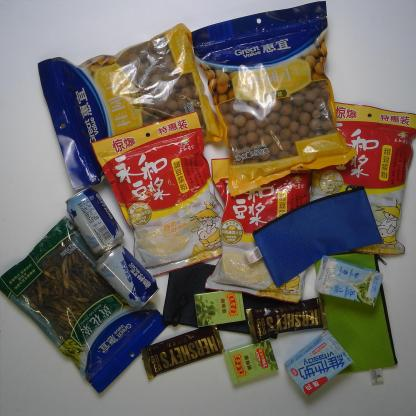Alcohol: (91, 240, 159, 310), (63, 184, 125, 255)
Candy: (221, 334, 285, 386), (192, 283, 248, 329)
Chocolate: (144, 321, 225, 382), (245, 292, 329, 342)
Dried Food: (191, 1, 358, 198), (35, 22, 224, 194), (1, 215, 173, 399)
Instant Drink: (91, 111, 242, 279), (202, 154, 316, 304), (313, 102, 416, 258)
Milk: (282, 329, 353, 396), (311, 253, 384, 309)
Stationery: (244, 186, 391, 289), (310, 247, 399, 376), (157, 254, 286, 340)
